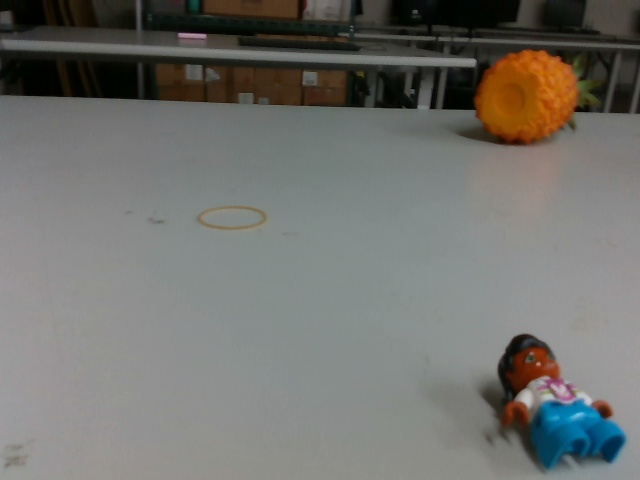people: (486, 328, 627, 468)
